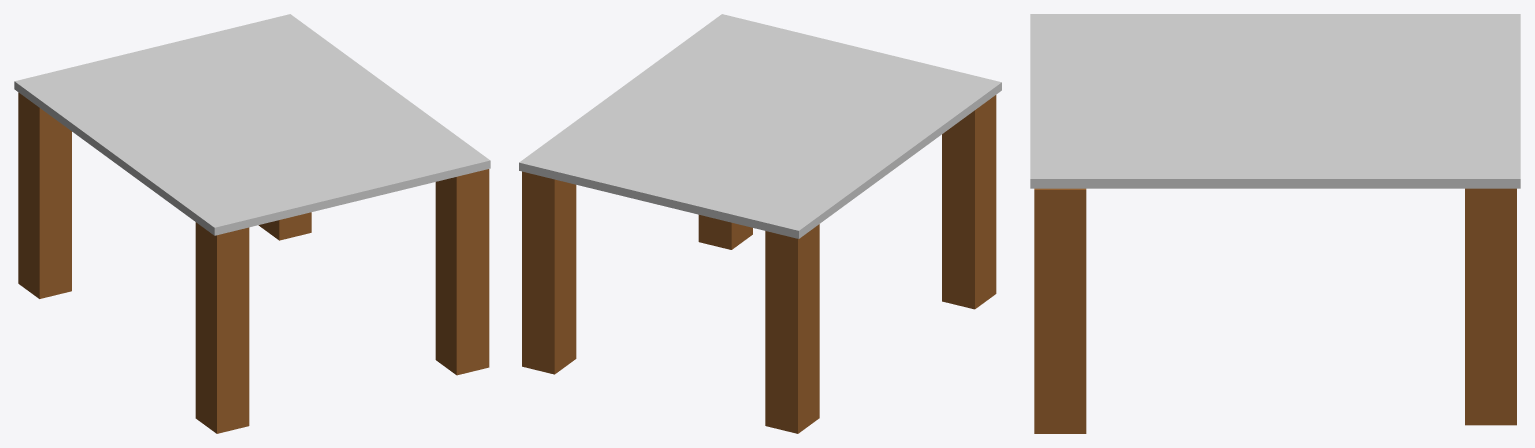
File: Table.fbx
The picture shows the model from 3 angles, left to right: view 1: azimuth 30°, elevation 25°; view 2: azimuth 150°, elevation 25°; view 3: azimuth 270°, elevation 25°; orthographic projection. The views are drawn at different scales.
Parts seen in each view (by area): view 1: Cube, Cube.002, Cube.001; view 2: Cube, Cube.001, Cube.002; view 3: Cube, Cube.002, Cube.001.
Boxes of the visible parts, x1,y1,x2,y2 form: Cube: [14, 14, 490, 235]; Cube.002: [195, 169, 489, 433]; Cube.001: [18, 92, 311, 298]; Cube: [519, 14, 1001, 238]; Cube.001: [522, 171, 819, 433]; Cube.002: [698, 95, 996, 309]; Cube: [1030, 14, 1520, 188]; Cube.002: [1034, 188, 1086, 433]; Cube.001: [1465, 188, 1516, 425].
Size of the model in its own units: 290 by 364 by 209.
